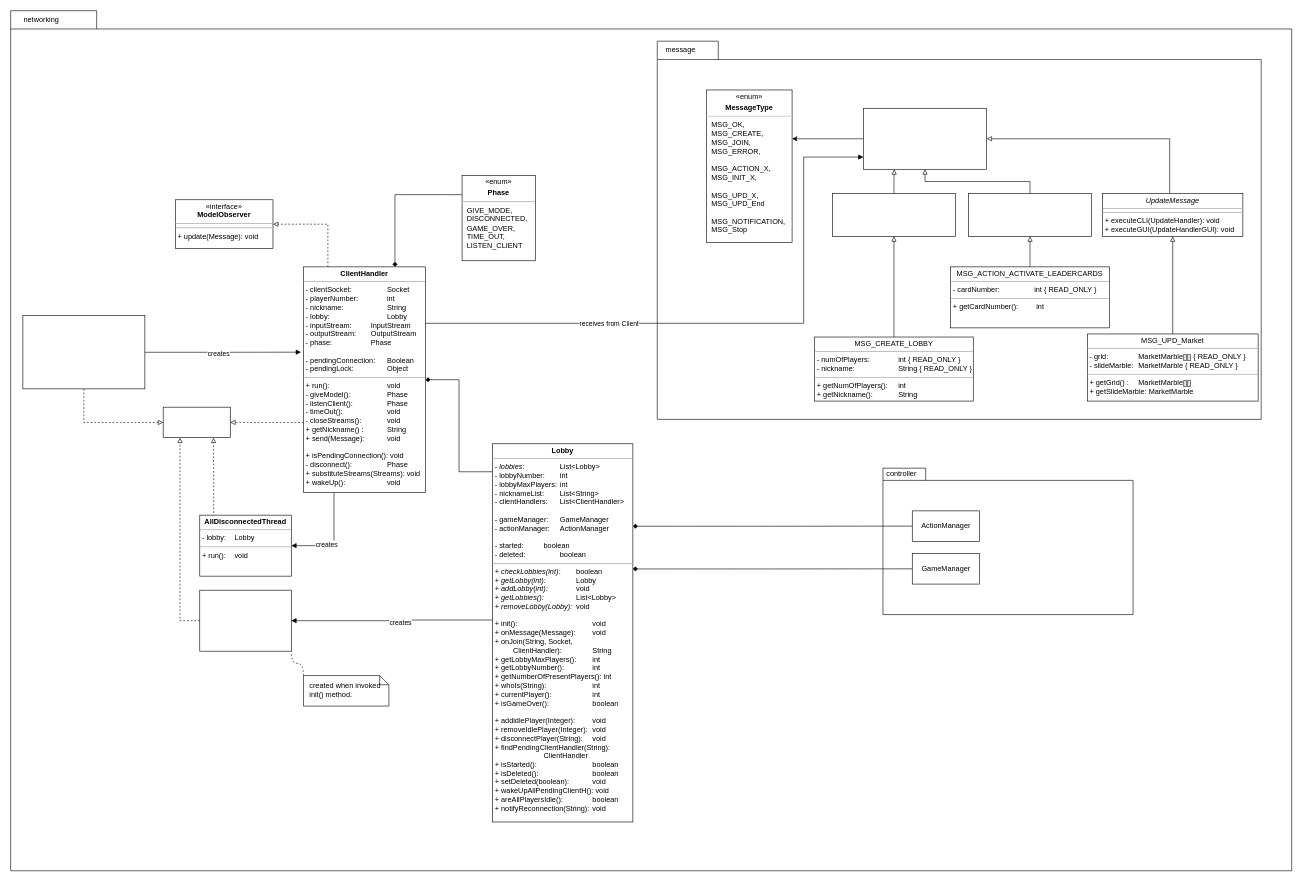
The diagram is 1302 pixels wide and 881 high, and some of its shapes have lost their labels. Here are the shapes that lost their labels. From the top down, the centre of each, then its label:
At pixel 925 138: "Message - messageType: MessageType + getMessageType(): MessageType".
At pixel 894 214: "InitMessage + execute(ClientHandler): boolean".
At pixel 1030 214: "ActionMessage + execute(ActionManager): boolean".
At pixel 83 352: "Server - port: int - socket: Socket - serverSocket: ServerSocket + run(): void".
At pixel 196 422: "«interface» Runnable".
At pixel 245 620: "CountDownThread - lobby: Lobby - time: int + run(): void".
